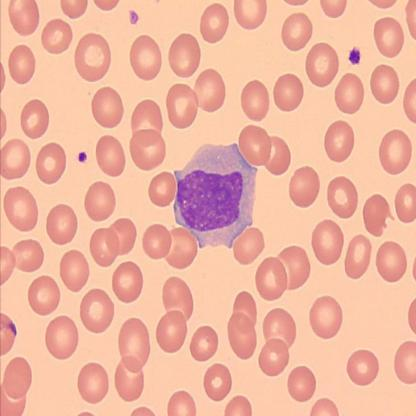Atypical lymphocyte: (172, 142, 258, 248)
